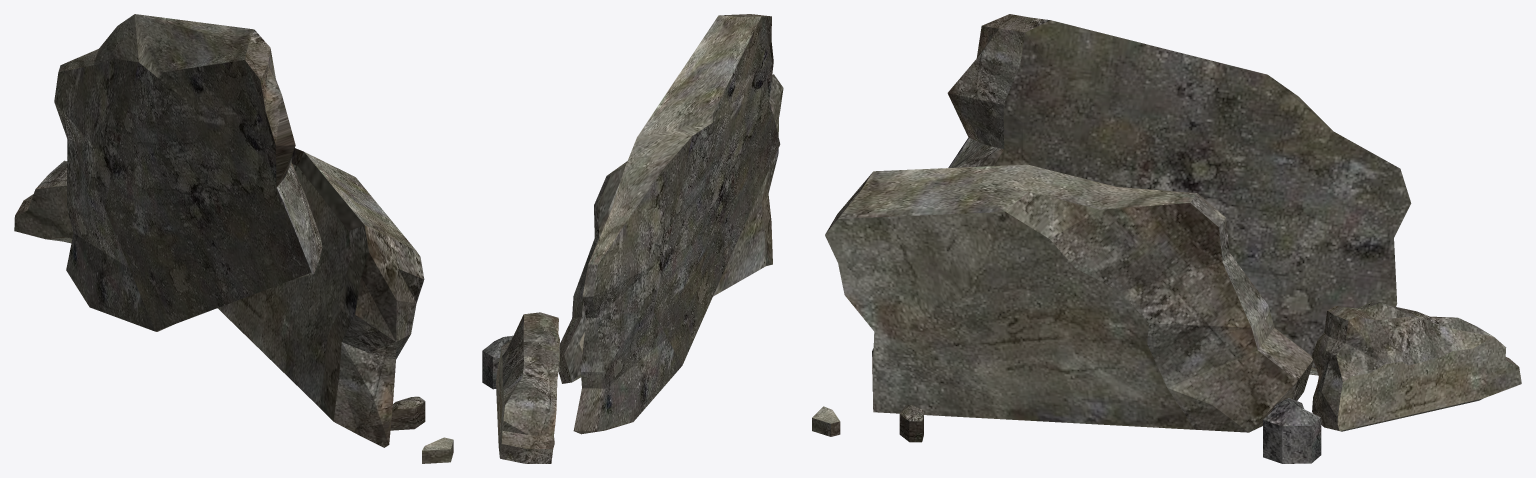
Rendered from barricade_tall04a.glb.
3 renders of one model, left to right at view 1: azimuth 30°, elevation 25°; view 2: azimuth 150°, elevation 25°; view 3: azimuth 270°, elevation 25°, orthographic. The views are drawn at different scales.
Parts seen in each view (by area): view 1: 0_composite_debris; view 2: 0_composite_debris; view 3: 0_composite_debris.
Boxes of the visible parts, left/top/right/bottom form: 0_composite_debris: left=14, top=14, right=453, bottom=463; 0_composite_debris: left=482, top=14, right=783, bottom=463; 0_composite_debris: left=812, top=14, right=1521, bottom=463.
Size of the model in its own units: 1.49 by 2.74 by 4.74.
1 material, 1 textured.
